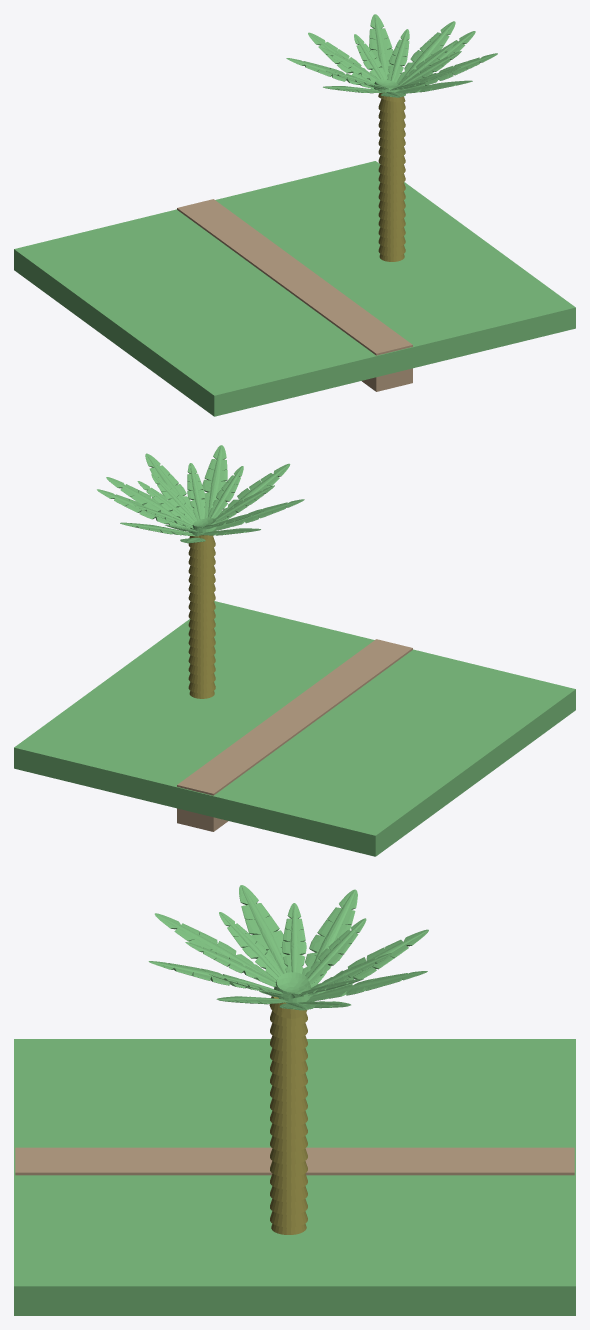
File: ground.glb
3 renders of one model, top to bottom at view 1: azimuth 30°, elevation 25°; view 2: azimuth 150°, elevation 25°; view 3: azimuth 270°, elevation 25°, orthographic. The views are drawn at different scales.
Parts seen in each view (by area): view 1: Mesh_Mesh_head_geo.001_lambert2SG.001; view 2: Mesh_Mesh_head_geo.001_lambert2SG.001; view 3: Mesh_Mesh_head_geo.001_lambert2SG.001.
Part boxes in pixels (box(x1,y1,x2,y2)): Mesh_Mesh_head_geo.001_lambert2SG.001: box(14, 14, 575, 416); Mesh_Mesh_head_geo.001_lambert2SG.001: box(14, 445, 575, 856); Mesh_Mesh_head_geo.001_lambert2SG.001: box(14, 885, 575, 1315).
Size of the model in its own units: 200 by 126 by 190.
